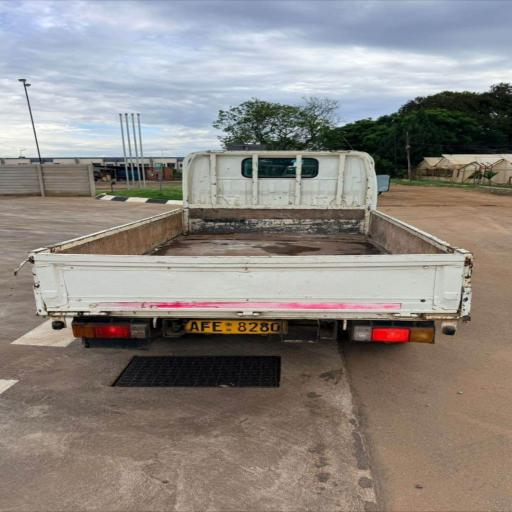number-plates: (184, 320, 282, 334)
